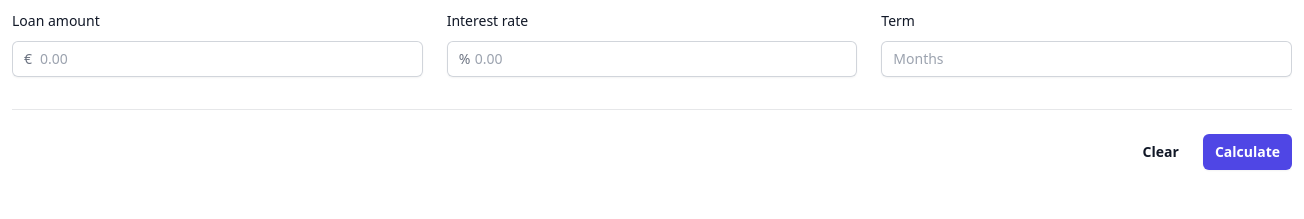
Test: LoanCalculator Component › handles server errors
Type "1000" into the number field labelled "Loan amount".
click(217, 59); type("1000")  # box left=12, top=41, right=423, bottom=77
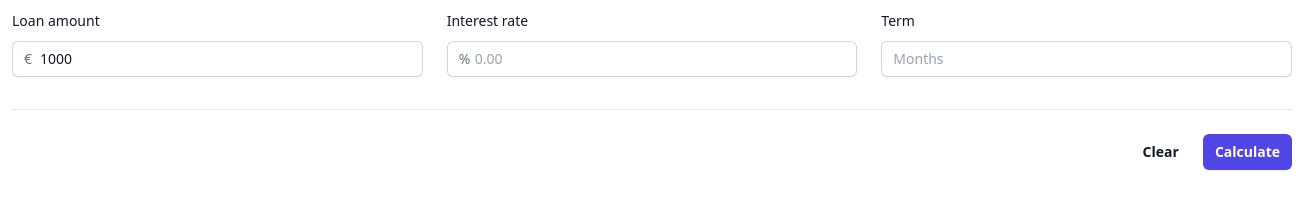
Type "5" into the number field labelled "Interest rate".
click(652, 59); type("5")  # box left=447, top=41, right=857, bottom=77
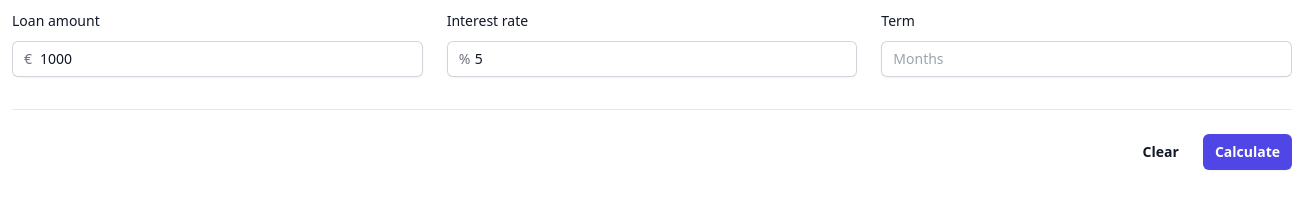
Type "12" into the number field labelled "Term".
click(1087, 59); type("12")  # box left=881, top=41, right=1292, bottom=77
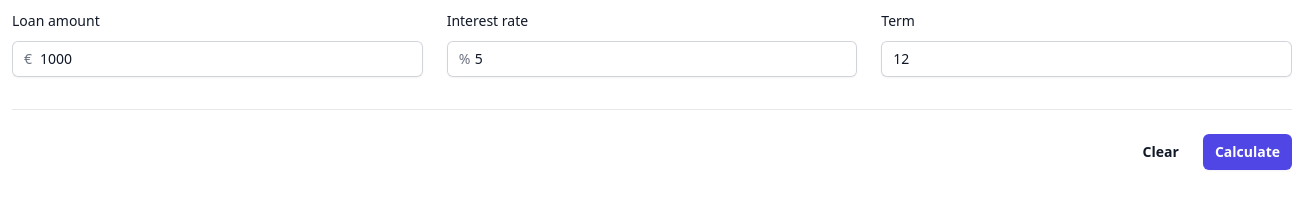
Submit the form from the button "Calculate", box left=1203, top=134, right=1292, bottom=170
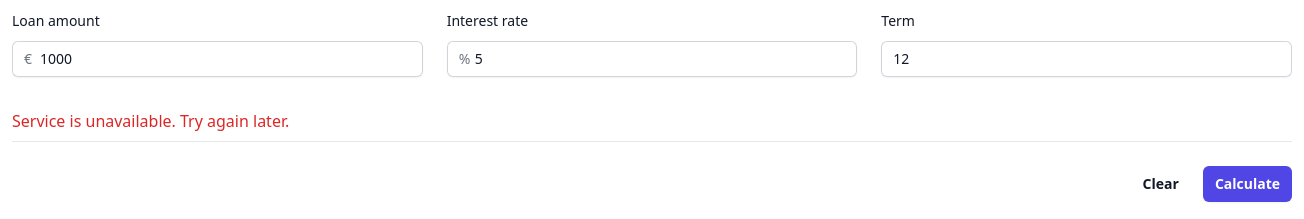
Now the text "Service is unavailable. Try again later." is shown, box left=12, top=110, right=289, bottom=132
